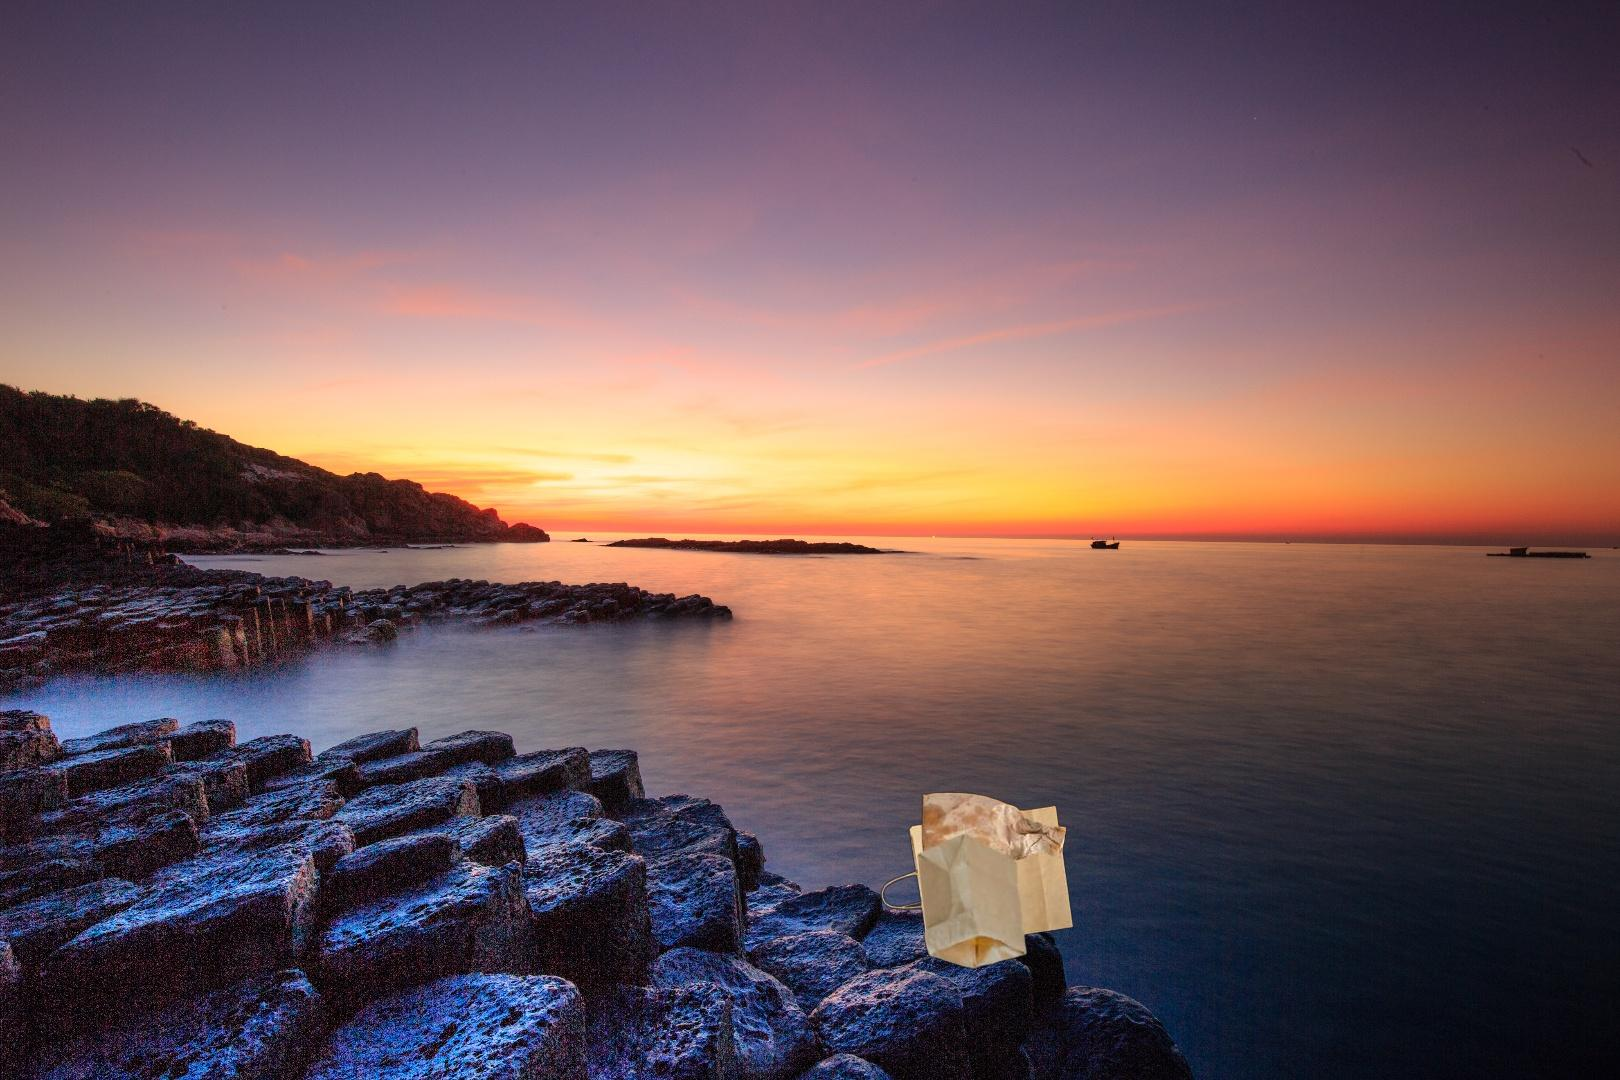paper-bag: (877, 790, 1078, 972)
